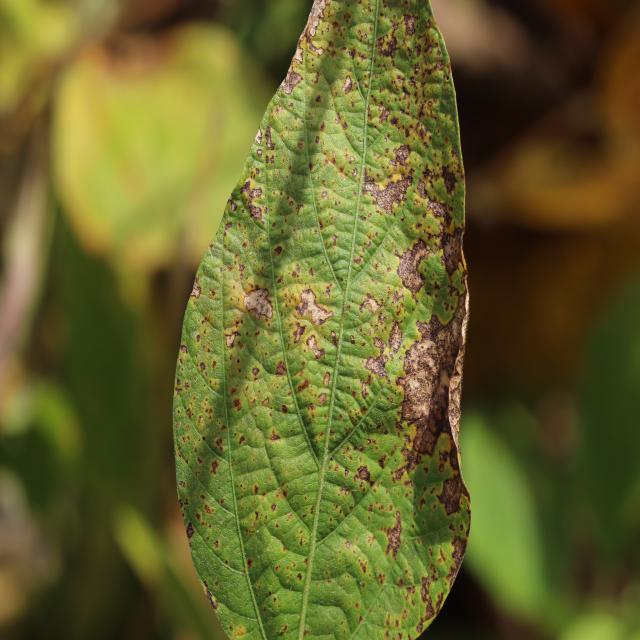Bacterial_Blight: (399, 347, 438, 425), (365, 169, 412, 218), (316, 133, 354, 185), (396, 244, 430, 294), (290, 290, 321, 339), (433, 473, 464, 515), (441, 232, 465, 279), (239, 178, 266, 219), (243, 287, 274, 322), (383, 508, 404, 557), (365, 349, 390, 381), (438, 165, 459, 197), (281, 68, 304, 95), (451, 532, 467, 570), (224, 323, 243, 348), (380, 34, 399, 59), (392, 144, 413, 166), (360, 295, 381, 315), (306, 37, 325, 58), (402, 13, 418, 37), (419, 574, 432, 603), (390, 464, 408, 483), (356, 465, 371, 484), (229, 623, 248, 638), (265, 126, 275, 150), (292, 47, 304, 66), (342, 76, 355, 93), (206, 589, 217, 607), (274, 361, 287, 376), (297, 378, 310, 393), (269, 427, 282, 442), (185, 521, 195, 539), (210, 459, 220, 475), (358, 559, 368, 575), (191, 284, 202, 298), (438, 547, 447, 564), (232, 397, 242, 411), (317, 391, 327, 404), (215, 437, 224, 451), (377, 571, 386, 585), (323, 372, 331, 387), (384, 613, 392, 627), (179, 344, 188, 356), (246, 557, 254, 570), (274, 245, 283, 256), (251, 366, 260, 377), (238, 435, 246, 446), (199, 361, 206, 373), (401, 608, 408, 620), (281, 404, 289, 414), (262, 397, 270, 406), (315, 94, 322, 104), (416, 623, 423, 633), (394, 618, 400, 629), (281, 624, 288, 633), (297, 141, 303, 151), (214, 539, 220, 549), (253, 484, 259, 494), (254, 510, 259, 521), (179, 479, 185, 488), (270, 503, 276, 511), (345, 540, 351, 548), (297, 572, 302, 581), (196, 333, 201, 342), (360, 581, 365, 588), (353, 320, 357, 326)
Soybean: (173, 0, 470, 640)
